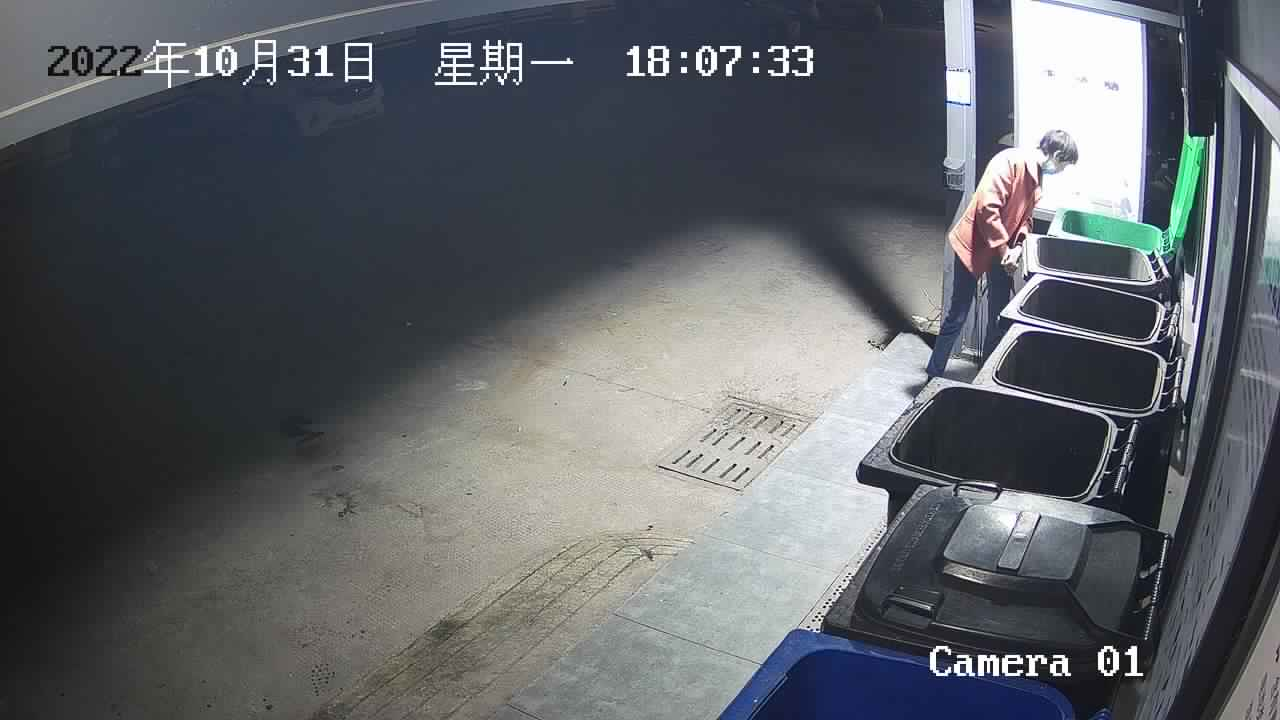person: (923, 127, 1080, 381)
